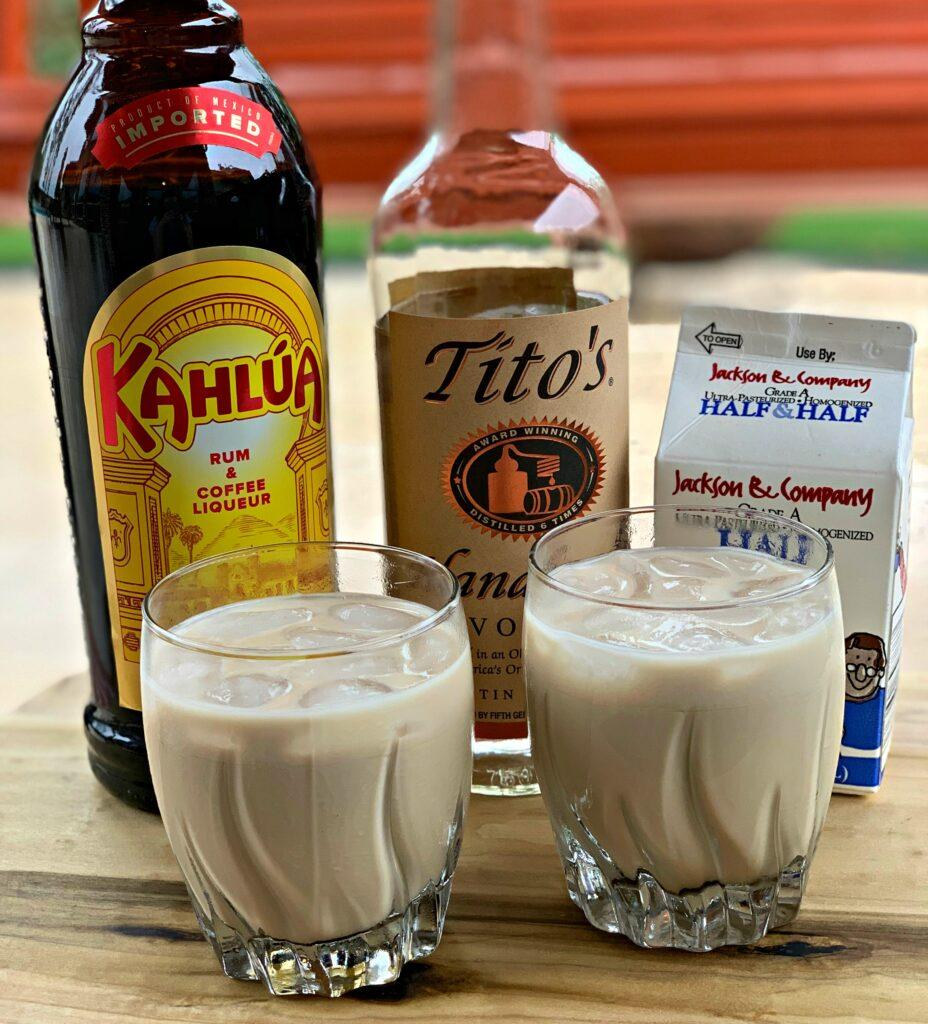glass: (33, 0, 356, 812), (370, 0, 637, 798), (152, 540, 467, 997), (527, 505, 846, 943)
